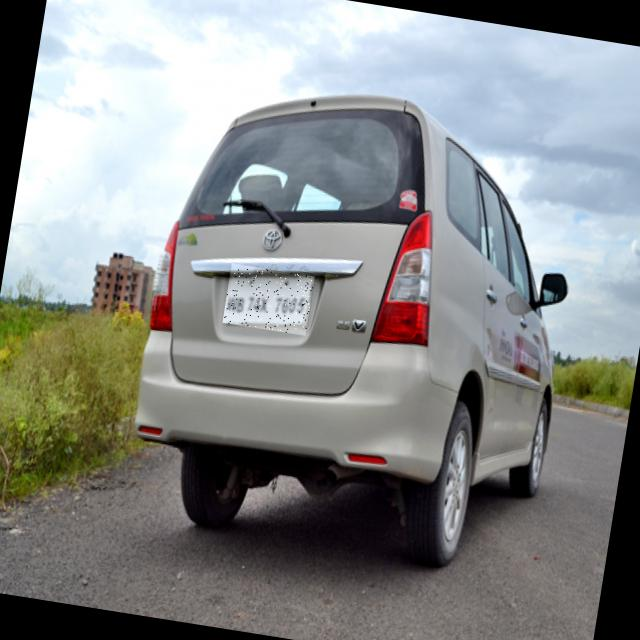Plate: (224, 265, 316, 337)
